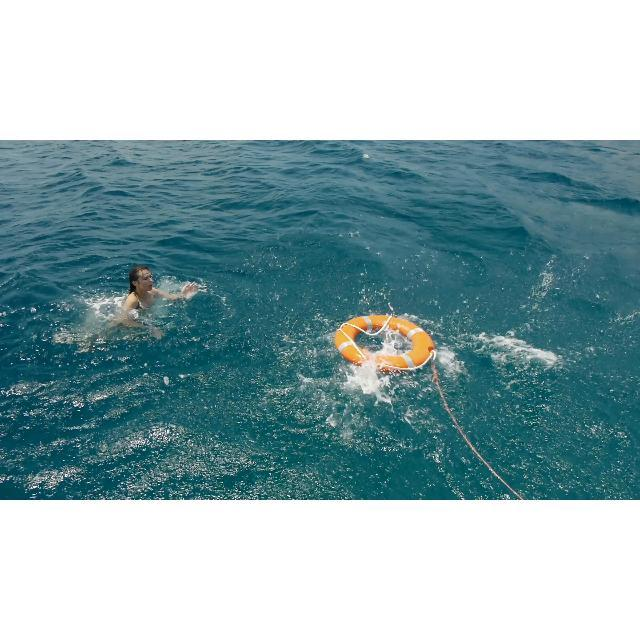human: (108, 268, 200, 340)
